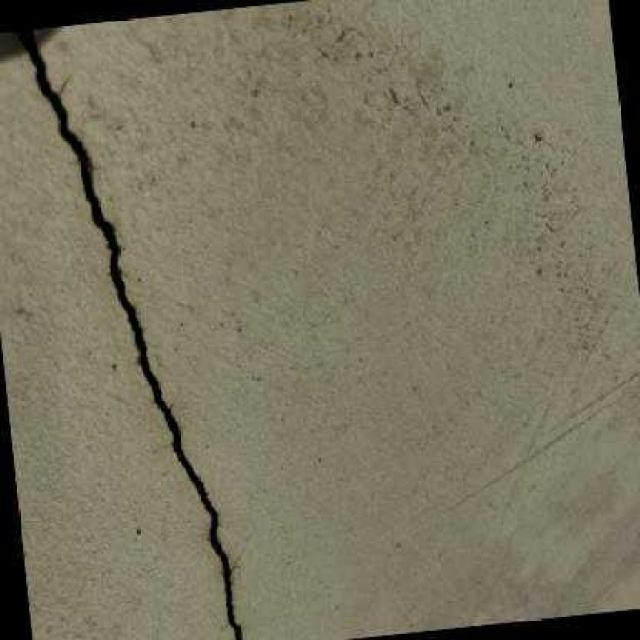D00: (18, 29, 242, 640)
